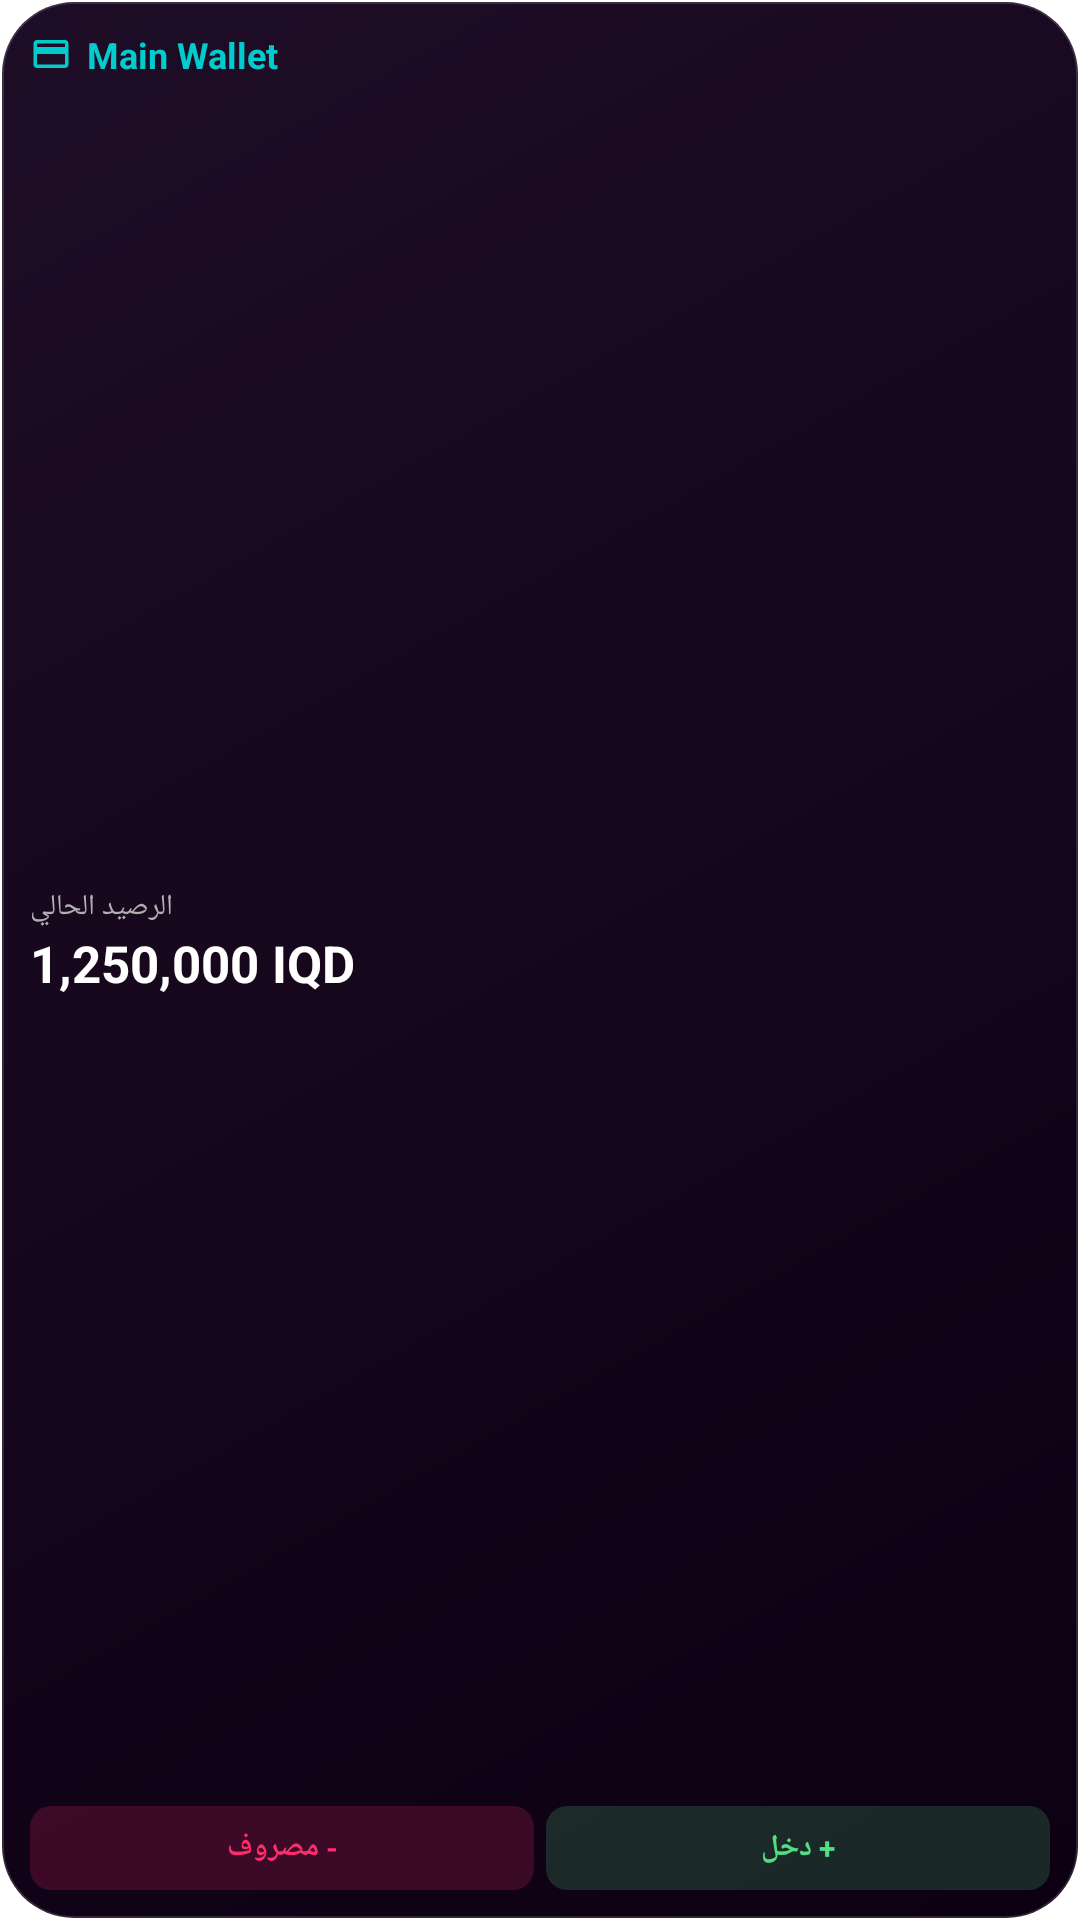

Icon bounding boxes for this 1080w x 1920h phone screenshot, format (x1, y1, x2, y2):
widget card: (33, 40, 69, 68)
